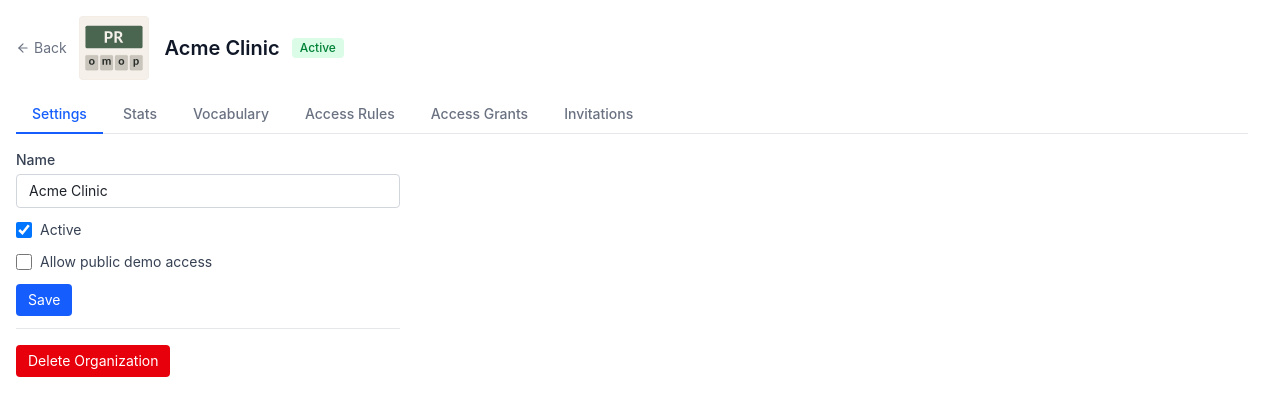
Scenario: OrgDetail — Invitations list › shows person_id for patient invitations
Expected: the heading "Acme Clinic" is shown, [165,34,280,62]
Click the button "Invitations" at (599, 115), box [548,96,649,134]
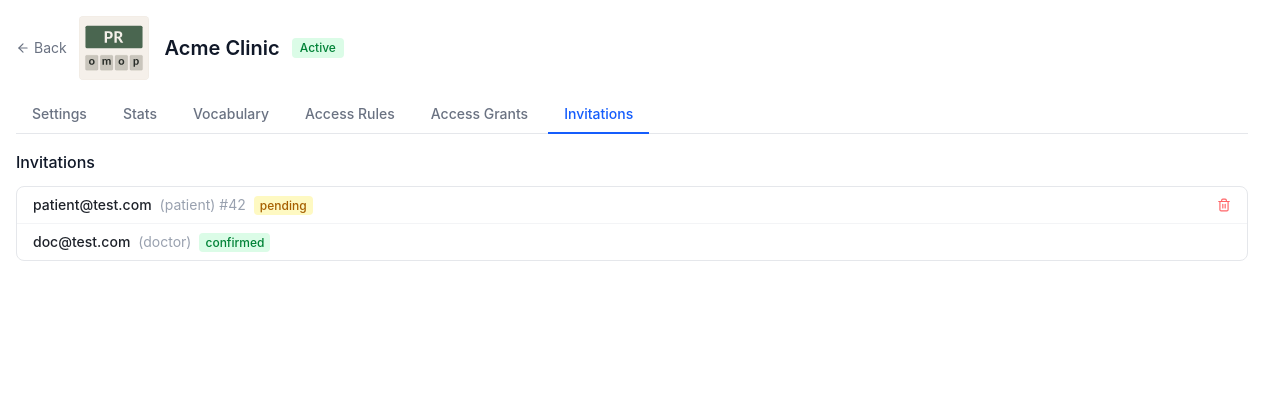
Now the text "patient@test.com" is shown, box [33,196,152,213]
Now the text "#42" is shown, box [219,196,246,213]
